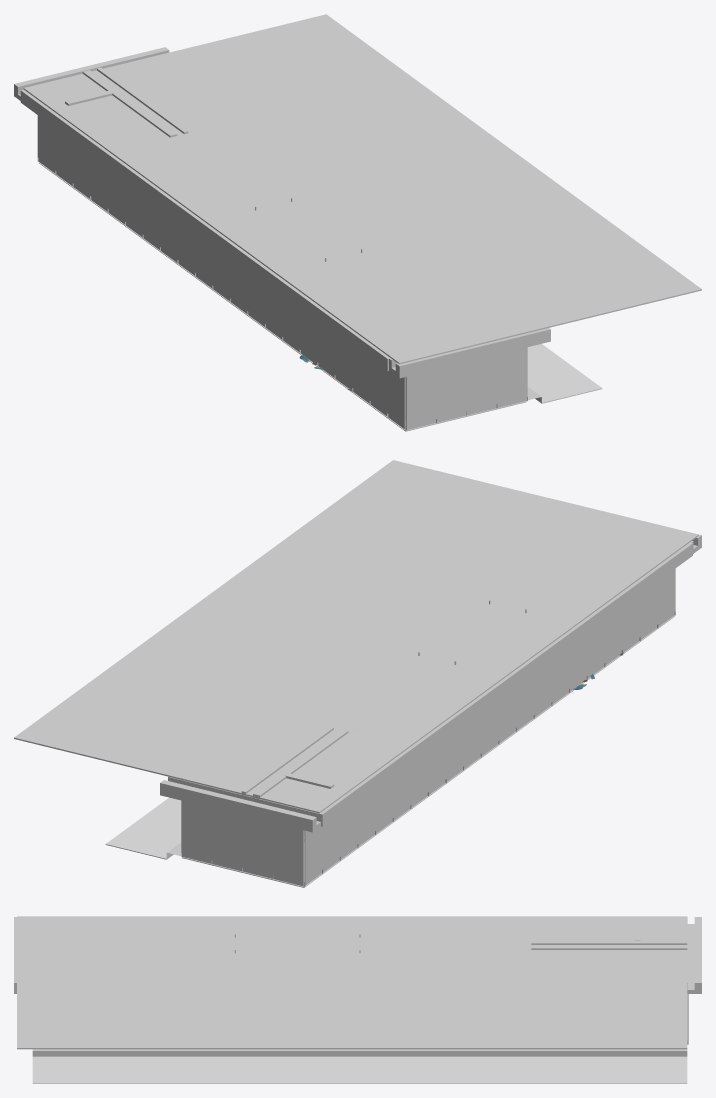
File: city-17-subway.fbx
3 renders of one model, top to bottom at view 1: azimuth 30°, elevation 25°; view 2: azimuth 150°, elevation 25°; view 3: azimuth 270°, elevation 25°, orthographic. The views are drawn at different scales.
Visible parts, largest first — view 1: teto_2, teto, parede_principal, parede_esquerda, borda_teto_principal, borda_teto_esquerda, gravel_chao_direito, borda_teto_corrimao, borda_teto_corrimao_atras, gravel_chao; view 2: teto_2, teto, parede_principal, parede_direita, borda_teto_principal, borda_teto_corrimao_atras, gravel_chao_direito, borda_teto_corrimao, gravel_chao; view 3: teto_2, teto, gravel_chao_direito, gravel_chao, chao_borda_trem, borda_teto_corrimao, borda_teto_corrimao_atras.
Part boxes in pixels (<box>): teto_2: <box>175,14,701,327</box>; teto: <box>23,51,550,364</box>; parede_principal: <box>37,115,405,430</box>; parede_esquerda: <box>405,347,527,430</box>; borda_teto_principal: <box>20,90,390,370</box>; borda_teto_esquerda: <box>389,328,550,378</box>; gravel_chao_direito: <box>527,344,602,396</box>; borda_teto_corrimao: <box>82,67,188,137</box>; borda_teto_corrimao_atras: <box>14,47,169,100</box>; gravel_chao: <box>527,363,571,403</box>; teto_2: <box>14,460,545,775</box>; teto: <box>166,497,698,813</box>; parede_principal: <box>304,568,675,886</box>; parede_direita: <box>181,800,304,886</box>; borda_teto_principal: <box>321,542,692,826</box>; borda_teto_corrimao_atras: <box>160,776,322,832</box>; gravel_chao_direito: <box>105,797,181,852</box>; borda_teto_corrimao: <box>241,726,348,798</box>; gravel_chao: <box>136,819,181,859</box>; teto_2: <box>17,982,687,1049</box>; teto: <box>17,916,687,982</box>; gravel_chao_direito: <box>32,1069,687,1083</box>; gravel_chao: <box>32,1056,687,1069</box>; chao_borda_trem: <box>32,1049,687,1056</box>; borda_teto_corrimao: <box>531,940,687,949</box>; borda_teto_corrimao_atras: <box>687,917,701,993</box>.
Size of the model in its own units: 2020 by 555 by 4414.
